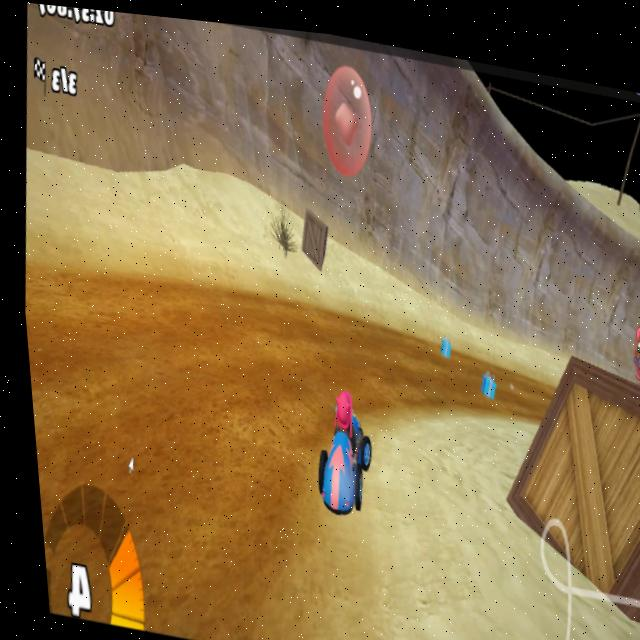bonus: (471, 354, 497, 394), (433, 331, 449, 349)
off_track: (358, 384, 615, 640), (139, 124, 428, 286), (436, 306, 535, 344)
player_kart: (298, 368, 379, 519)
track: (18, 287, 295, 521), (313, 310, 437, 383)
